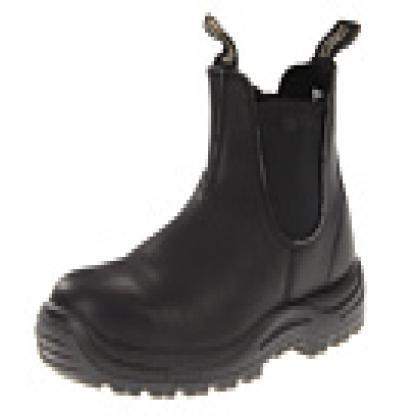bota: (31, 37, 369, 393)
